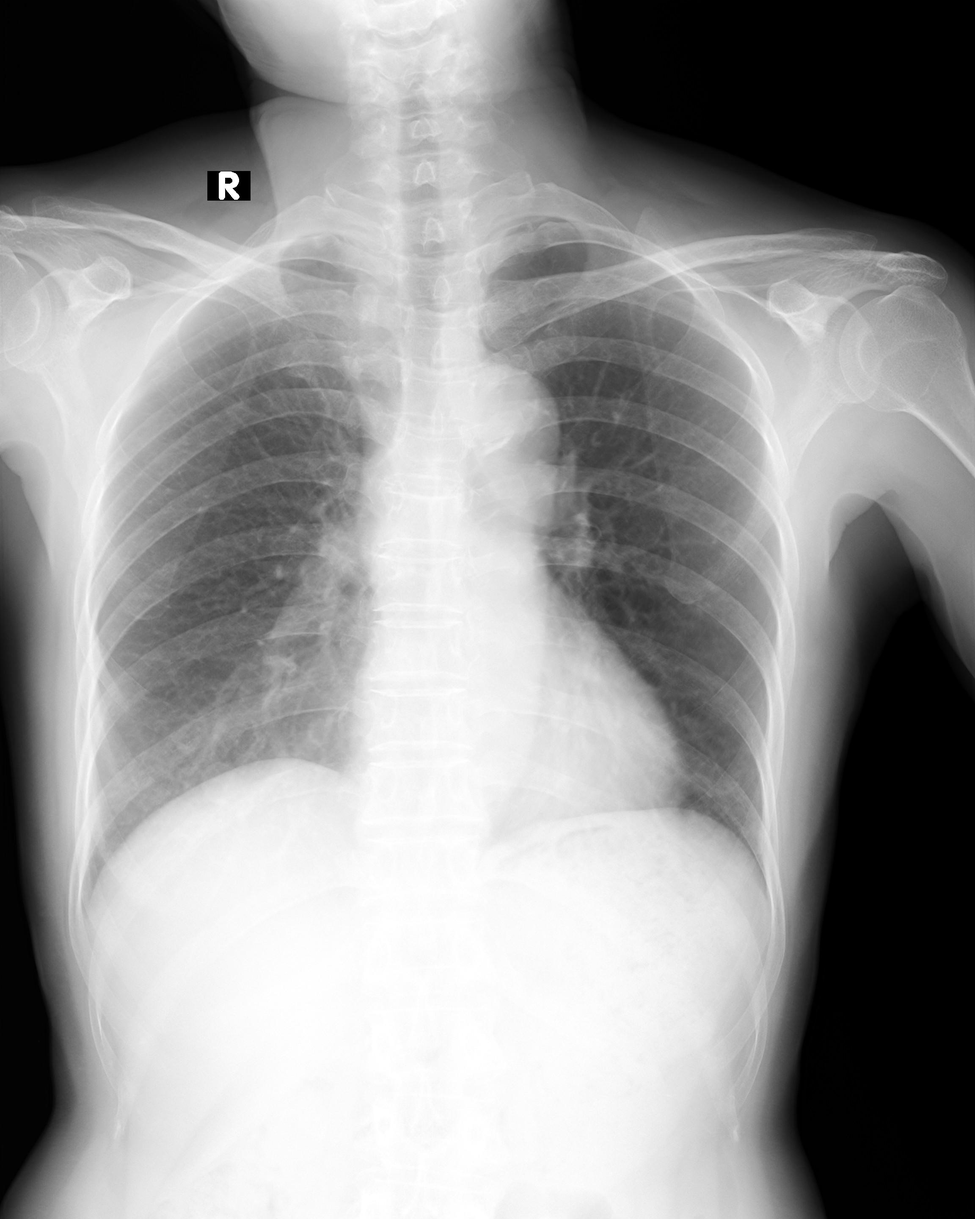Aortic enlargement: (440, 361, 560, 526)
Pleural thickening: (478, 215, 558, 234)
